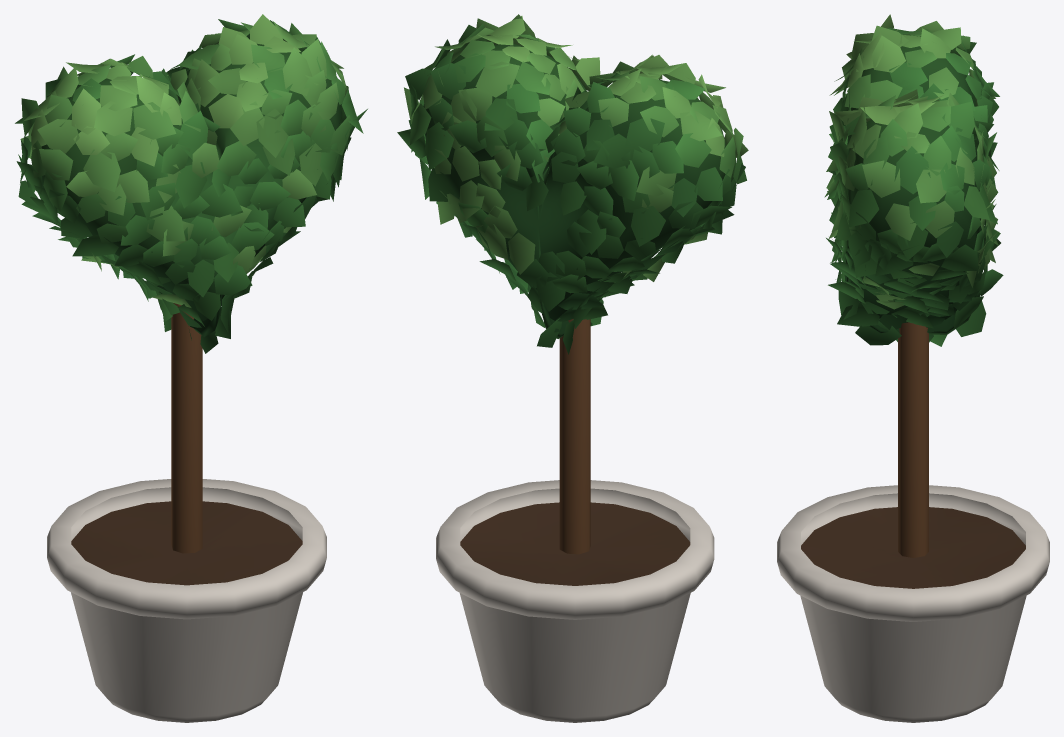
The model's file is furn_od_topiary_heart.glb.
3 renders of one model, left to right at view 1: azimuth 30°, elevation 25°; view 2: azimuth 150°, elevation 25°; view 3: azimuth 270°, elevation 25°, orthographic. The views are drawn at different scales.
Visible parts, largest first — view 1: furn_od_topiary_heart_main; view 2: furn_od_topiary_heart_main; view 3: furn_od_topiary_heart_main.
Part boxes in pixels (box(x1,y1,x2,y2)): furn_od_topiary_heart_main: box(15, 14, 367, 722); furn_od_topiary_heart_main: box(397, 14, 748, 722); furn_od_topiary_heart_main: box(777, 14, 1049, 722).
Size of the model in its own units: 0.6142 by 1.15 by 0.453.
